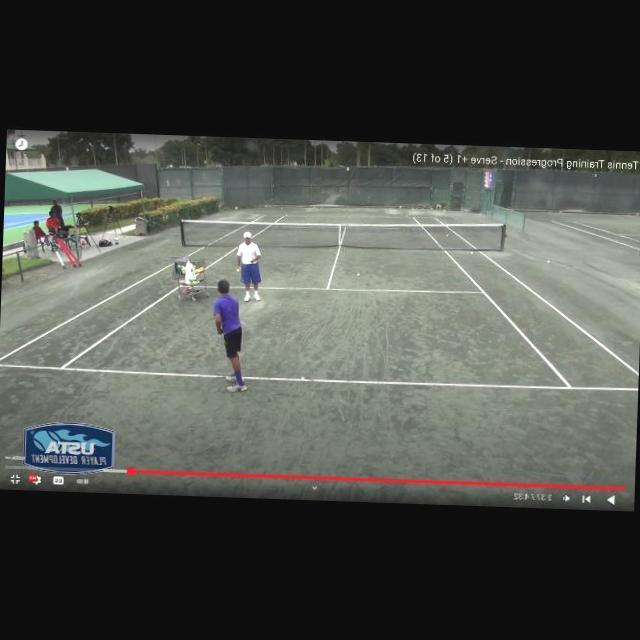Tennis Ball: (546, 260, 549, 263), (237, 269, 240, 272), (358, 272, 360, 276)
